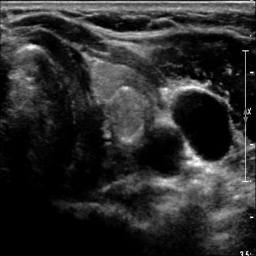mass: (109, 88, 148, 143)
